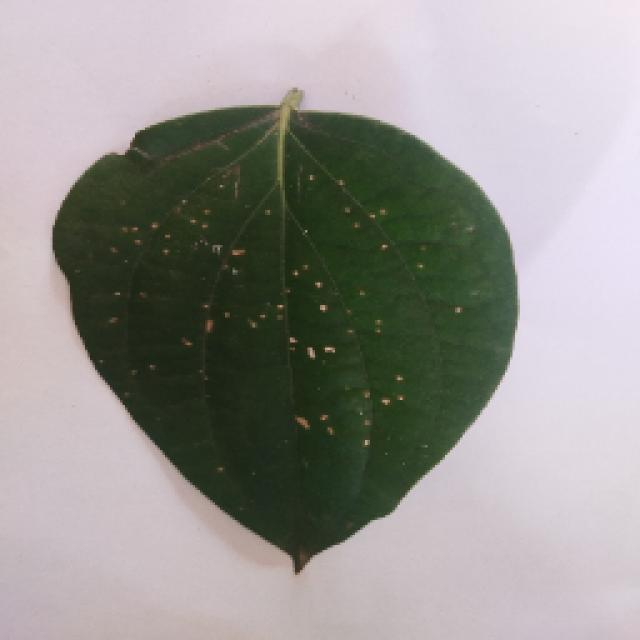pollu-disease: (32, 92, 582, 578)
